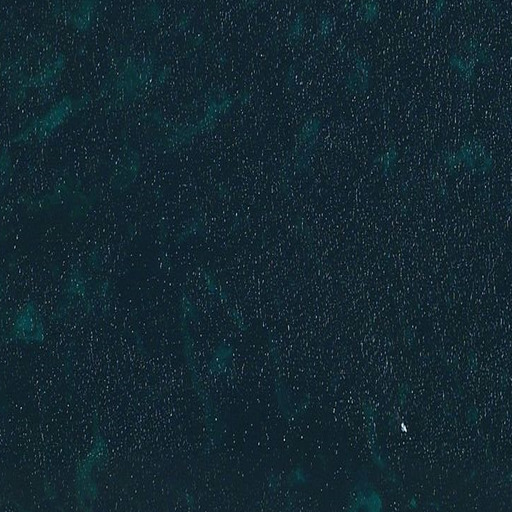ship: (398, 421, 408, 435)
